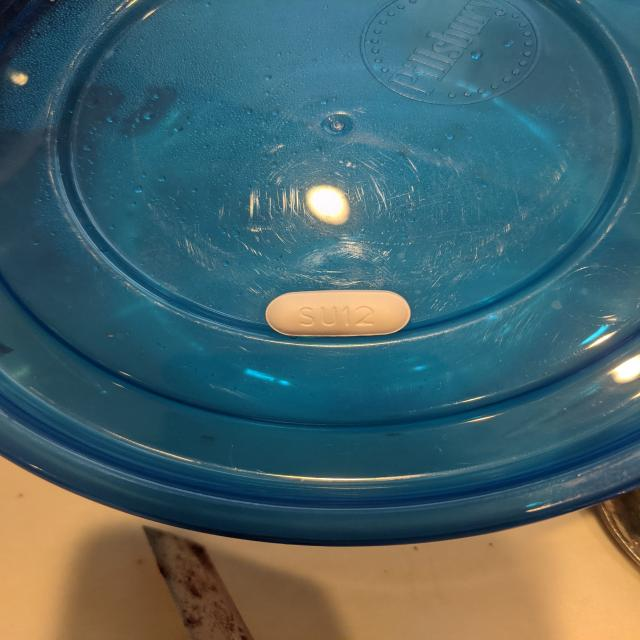non-organic waste: (264, 288, 412, 338)
